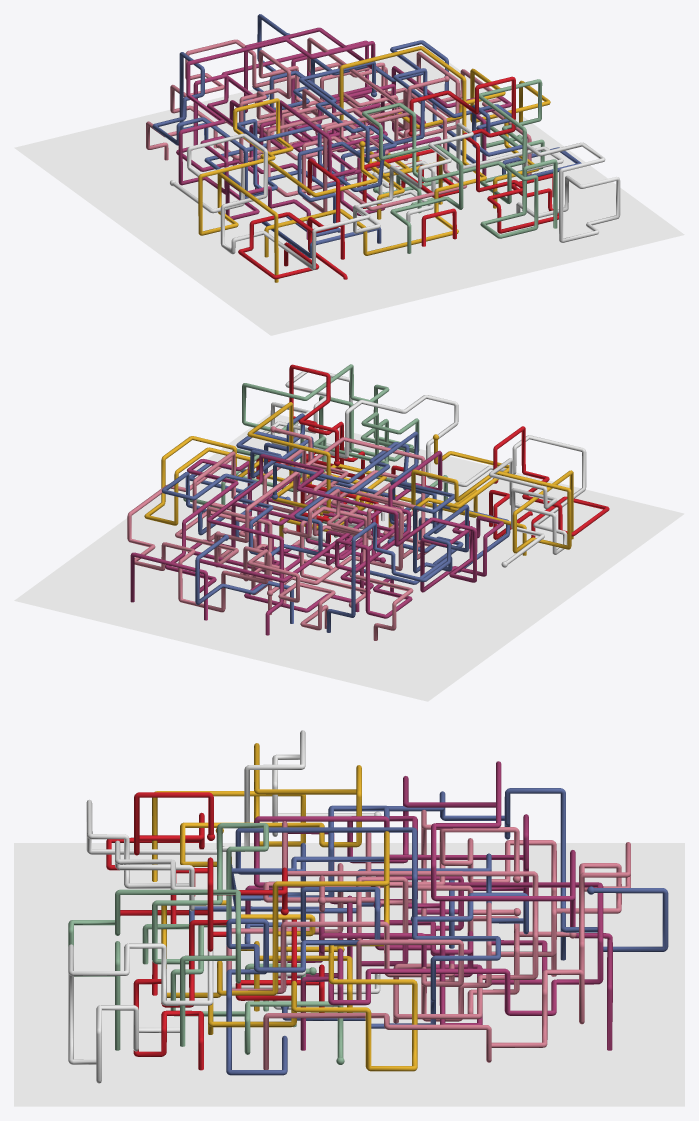
File: pipedream.glb
3 views of the same model, one above another, from view 1: azimuth 30°, elevation 25°; view 2: azimuth 150°, elevation 25°; view 3: azimuth 270°, elevation 25° (orthographic). The views are drawn at different scales.
Visible parts, largest first — view 1: loop_bounds, pipe_024; view 2: loop_bounds, pipe_024; view 3: loop_bounds, pipe_024.
Part boxes in pixels (x1,y1,x2,y2): loop_bounds: [14, 47, 684, 335]; pipe_024: [146, 14, 620, 282]; loop_bounds: [14, 413, 684, 701]; pipe_024: [127, 364, 609, 640]; loop_bounds: [14, 843, 684, 1106]; pipe_024: [68, 730, 668, 1083].
Bounding box in the file's own units: 178 × 65.01 × 191.
